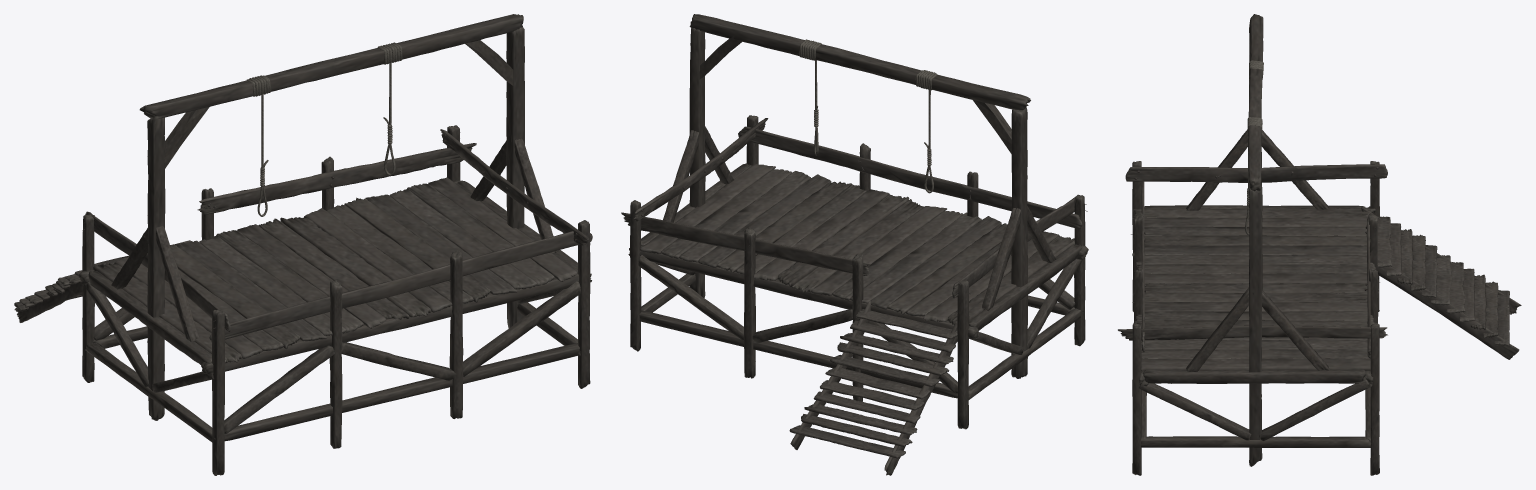
File: Gallows.fbx
The picture shows the model from 3 angles, left to right: view 1: azimuth 30°, elevation 25°; view 2: azimuth 150°, elevation 25°; view 3: azimuth 270°, elevation 25°; orthographic projection. The views are drawn at different scales.
Parts seen in each view (by area): view 1: Gallows_Planks_01, Gallows_Frame_01, Gallows, Gallows_Planks_02, Gallows_Stairs_01; view 2: Gallows_Planks_01, Gallows_Frame_01, Gallows, Gallows_Stairs_01, Gallows_Planks_02; view 3: Gallows_Planks_01, Gallows_Frame_01, Gallows, Gallows_Stairs_01, Gallows_Planks_02.
Part boxes in pixels (left/top/right/bottom): Gallows_Planks_01: left=93, top=177, right=576, bottom=363; Gallows_Frame_01: left=78, top=125, right=591, bottom=475; Gallows: left=111, top=14, right=558, bottom=420; Gallows_Planks_02: left=82, top=129, right=592, bottom=342; Gallows_Stairs_01: left=14, top=240, right=197, bottom=322; Gallows_Planks_01: left=640, top=164, right=1074, bottom=325; Gallows_Frame_01: left=628, top=115, right=1088, bottom=429; Gallows: left=663, top=14, right=1056, bottom=378; Gallows_Stairs_01: left=789, top=301, right=957, bottom=475; Gallows_Planks_02: left=621, top=118, right=1087, bottom=298; Gallows_Planks_01: left=1132, top=208, right=1378, bottom=371; Gallows_Frame_01: left=1132, top=161, right=1379, bottom=475; Gallows: left=1186, top=14, right=1329, bottom=466; Gallows_Stairs_01: left=1361, top=206, right=1521, bottom=359; Gallows_Planks_02: left=1118, top=164, right=1387, bottom=358.
Size of what is drawn, in the model's own units: 783 by 618 by 758.
